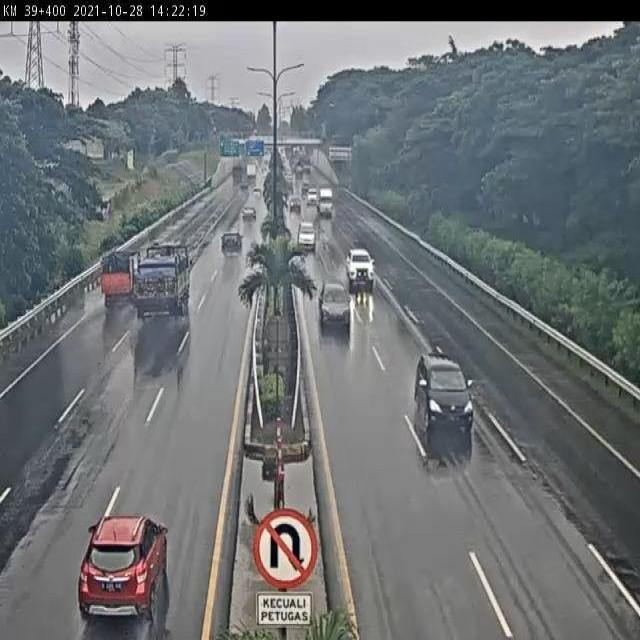car: (75, 511, 170, 621), (413, 351, 475, 433), (318, 280, 352, 329), (345, 248, 376, 285), (220, 231, 243, 256), (297, 219, 316, 249), (240, 204, 257, 225)
truck-l-: (131, 245, 192, 318)
truck-s-: (99, 249, 141, 300)
